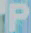Parking: (6, 2, 29, 32)
